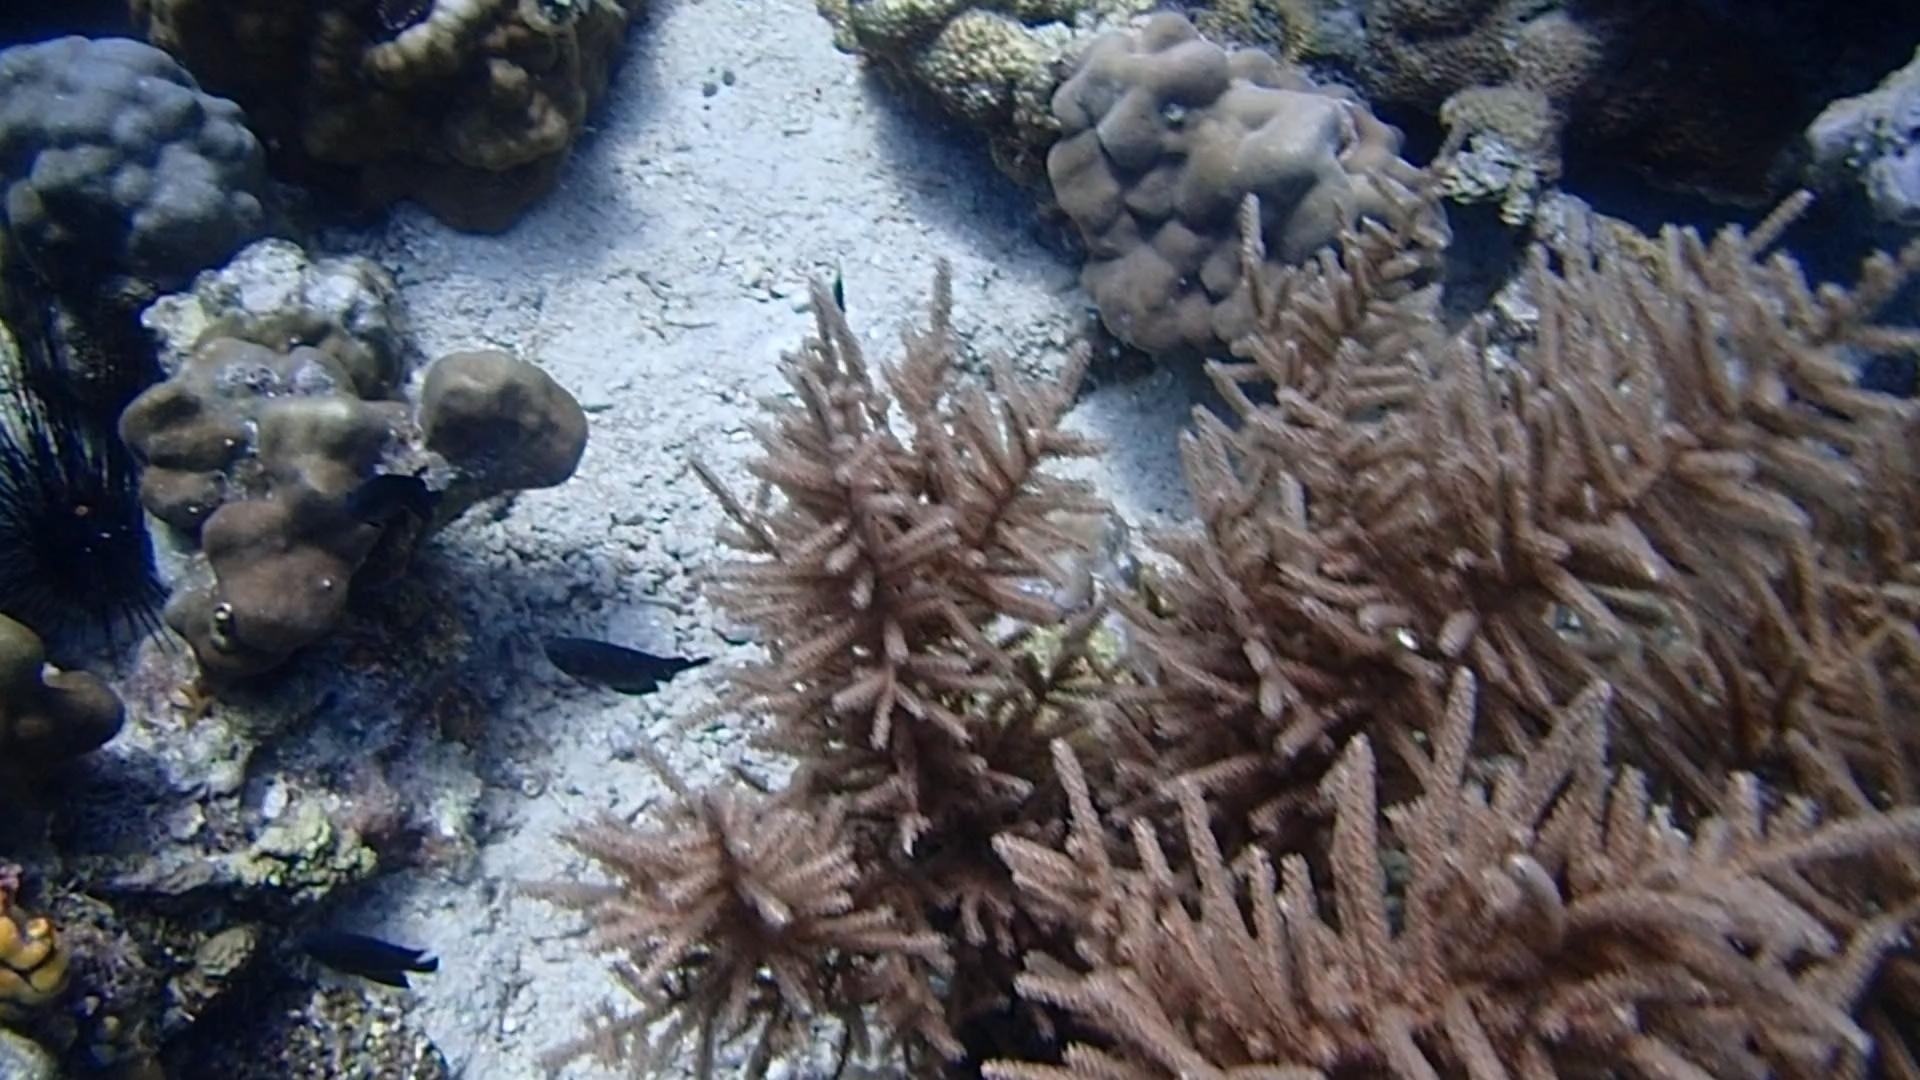Dark Fish: (520, 630, 720, 699), (295, 920, 442, 992), (335, 456, 455, 533)
Yellow Tail: (814, 256, 858, 328)
